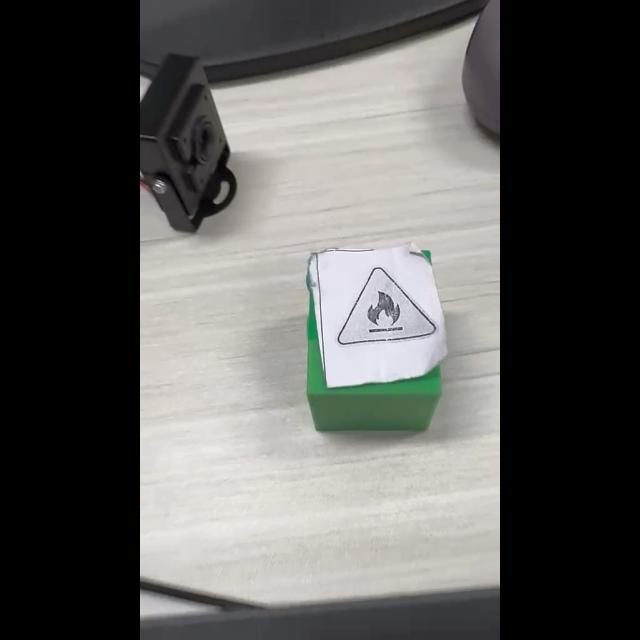Fire: (338, 268, 438, 345)
